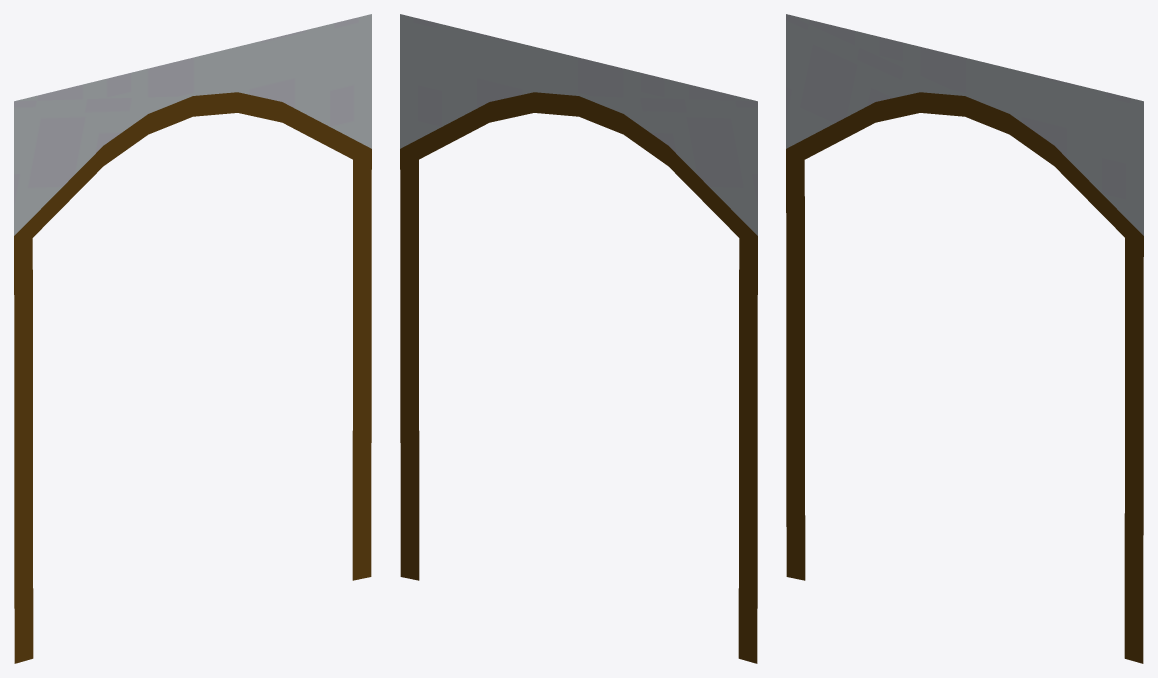
File: castle_door_flat.glb
3 renders of one model, left to right at view 1: azimuth 30°, elevation 25°; view 2: azimuth 150°, elevation 25°; view 3: azimuth 330°, elevation 25°, orthographic.
Parts seen in each view (by area): view 1: castle_door_flat; view 2: castle_door_flat; view 3: castle_door_flat.
Boxes of the visible parts, x1,y1,x2,y2 form: castle_door_flat: (14, 14, 371, 663); castle_door_flat: (400, 14, 757, 663); castle_door_flat: (786, 14, 1143, 663).
Size of the model in its own units: 2 by 3.01 by 1.19e-07.
Materials: 2 (1 with a texture image).
